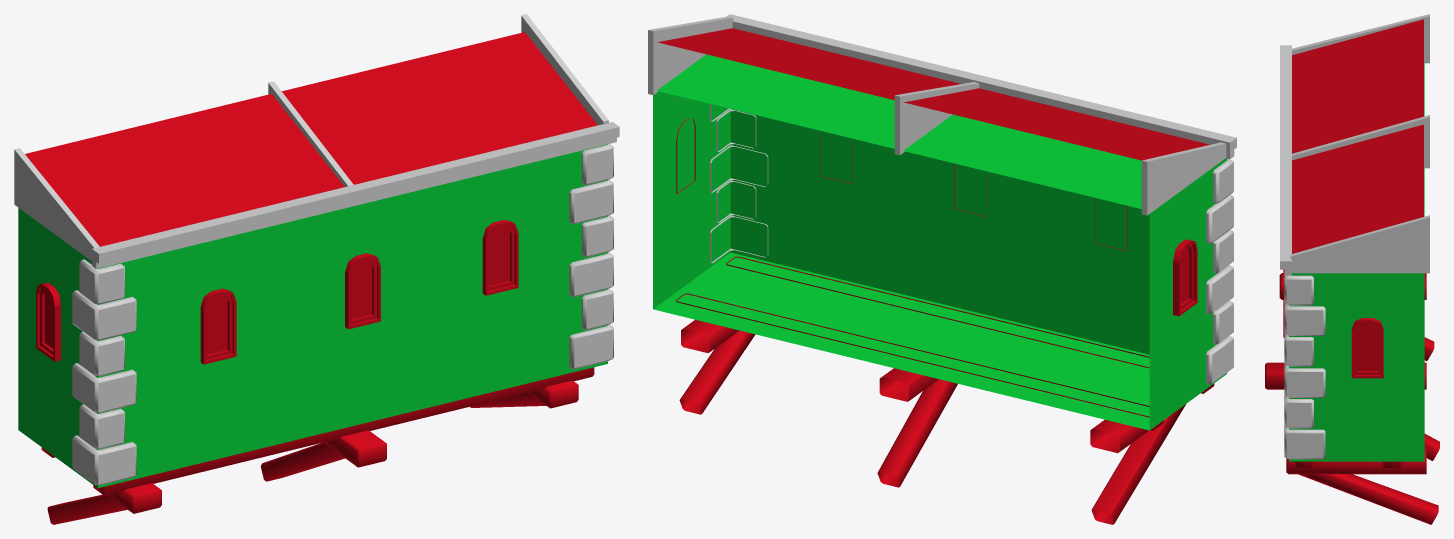
File: Balcony (1).fbx
3 renders of one model, left to right at view 1: azimuth 30°, elevation 25°; view 2: azimuth 150°, elevation 25°; view 3: azimuth 270°, elevation 25°, orthographic. The views are drawn at different scales.
Visible parts, largest first — view 1: Balcony.001; view 2: Balcony.001; view 3: Balcony.001.
Boxes of the visible parts, x1,y1,x2,y2 form: Balcony.001: [14, 14, 619, 524]; Balcony.001: [648, 14, 1236, 524]; Balcony.001: [1265, 14, 1439, 524].
Bounding box in the file's own units: 599 × 444 × 204.
